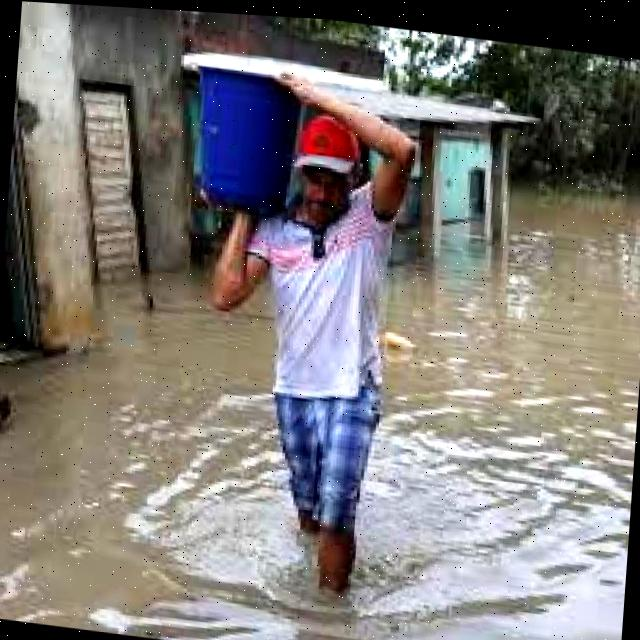civilian: (222, 76, 426, 629)
